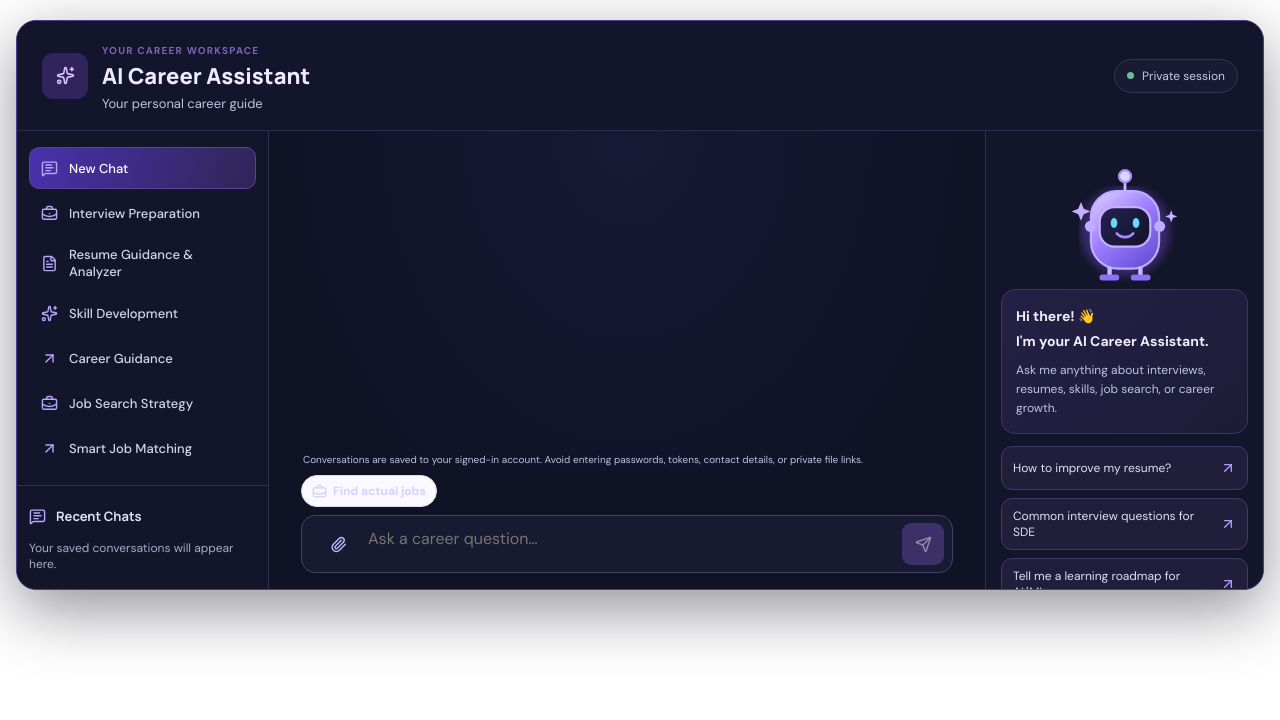
it: CareerAssistant › sends only bounded chat messages to the backend
This screenshot has width=1280, height=720.
In the text box named "Message the career assistant": [630, 544] box [366,525,895,563], type "How should I prepare for an interview?"
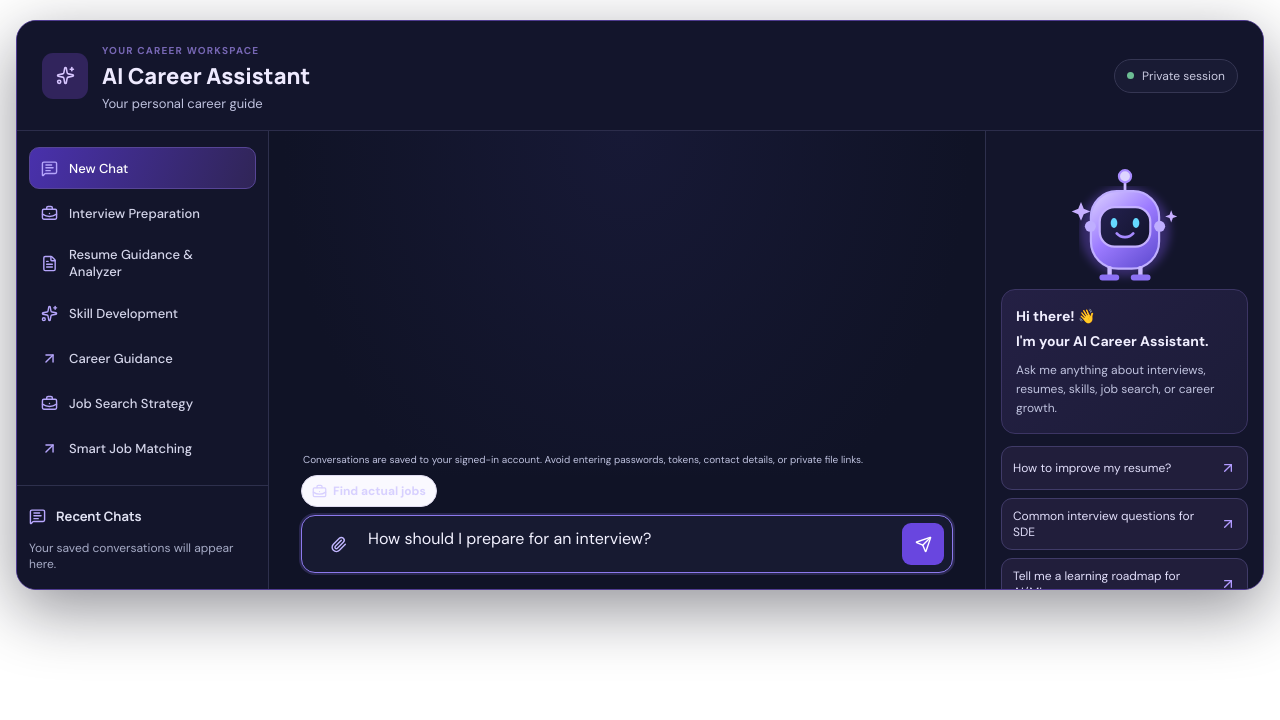
Press Enter
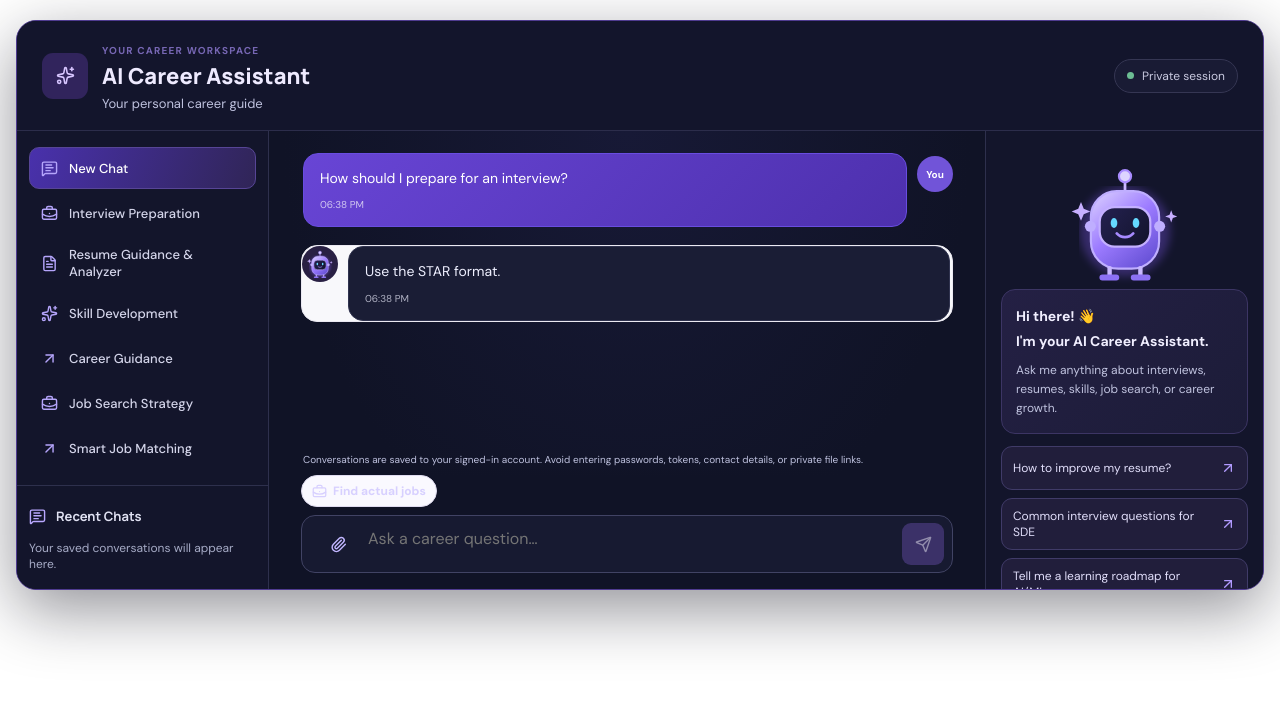
expect the text "Use the STAR format." is shown: met, box [365,262,500,280]
